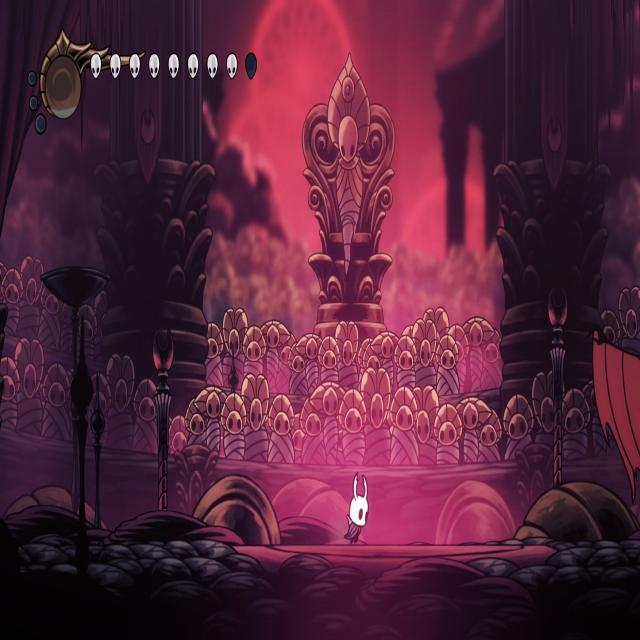Open Cloak: (583, 300, 635, 546)
Player: (344, 469, 371, 548)
